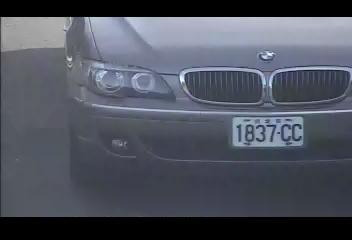plate: (230, 114, 305, 148)
